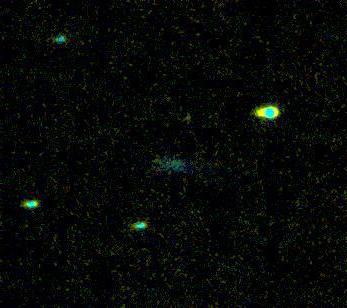star: (174, 104, 204, 134)
